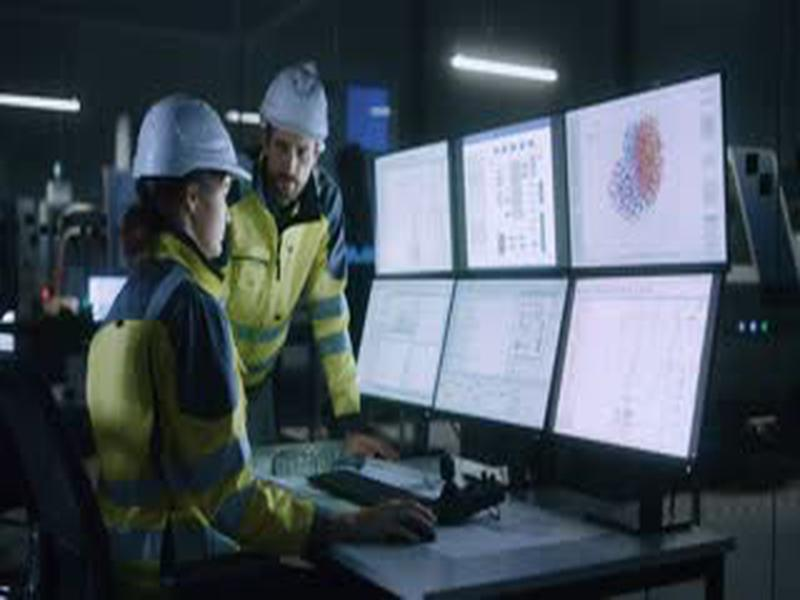hard-hat: (128, 90, 257, 187), (255, 61, 333, 147)
